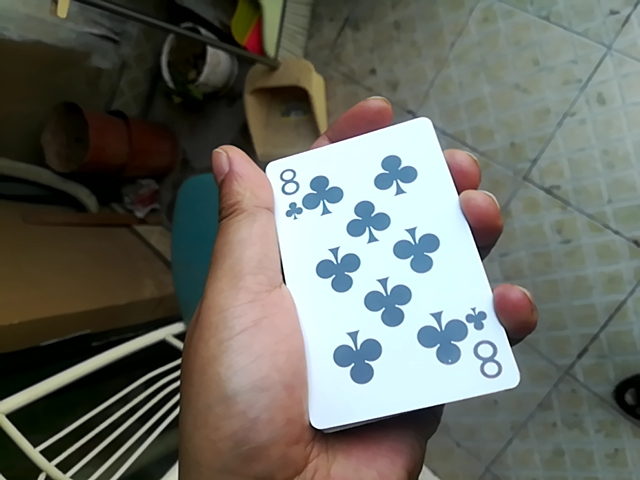mh 8: (266, 108, 523, 435)
